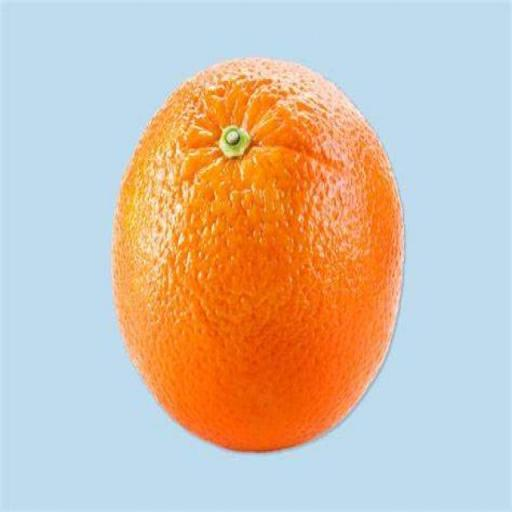fruit: (112, 58, 402, 448)
